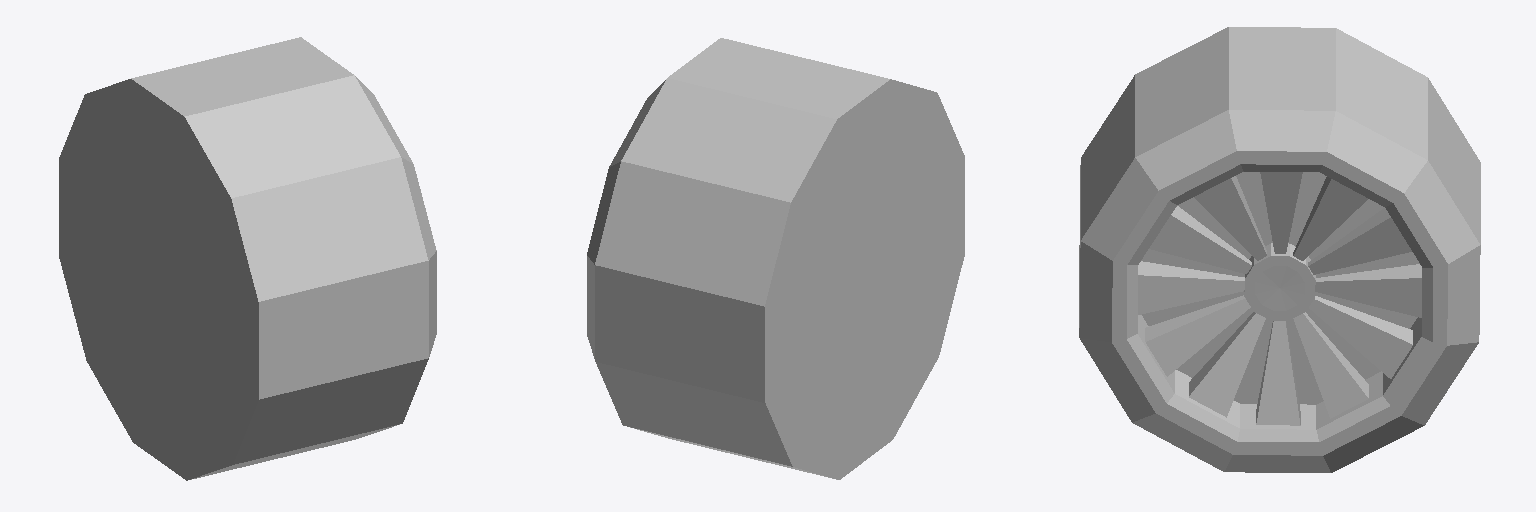
Rendered from FL_Wheels_1.obj.
3 renders of one model, left to right at view 1: azimuth 30°, elevation 25°; view 2: azimuth 150°, elevation 25°; view 3: azimuth 270°, elevation 25°, orthographic.
Parts seen in each view (by area): view 1: wheel_LF; view 2: wheel_LF; view 3: wheel_LF.
Part boxes in pixels (x1,y1,x2,y2): wheel_LF: (59,37,436,480); wheel_LF: (587,38,964,479); wheel_LF: (1079,27,1480,472).
Size of the model in its own units: 1.39 by 2.48 by 2.48.